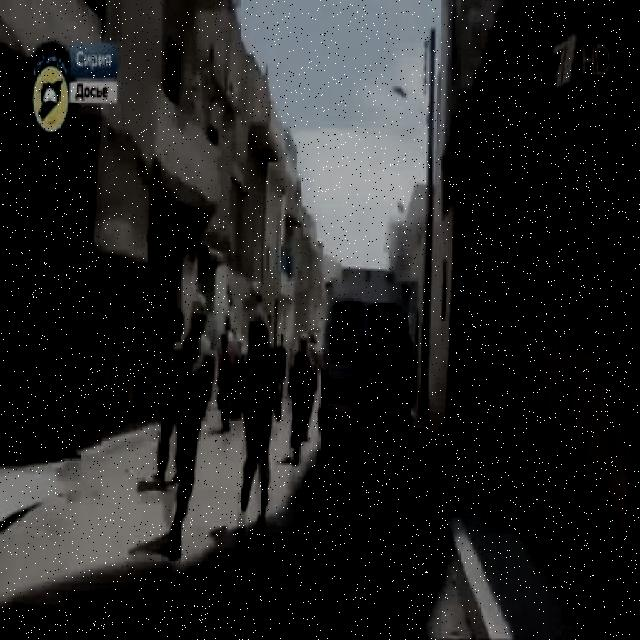Helmet: (244, 311, 270, 338), (190, 292, 208, 321)
